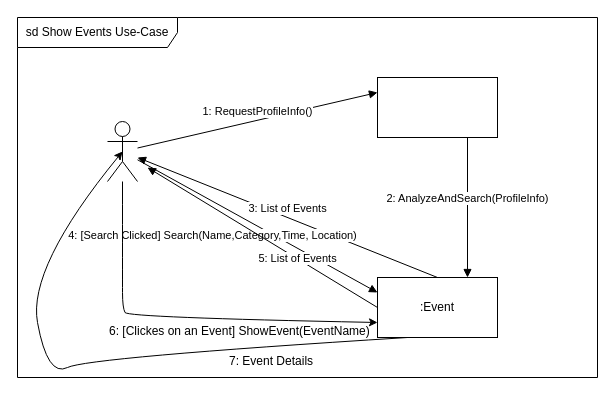
Some shapes in this 615 by 395 pixel diagram are drawn without their labels. Each missing label, with the centre of its shape:
:StudentUser: the point at 437,107
Student: the point at 122,151
